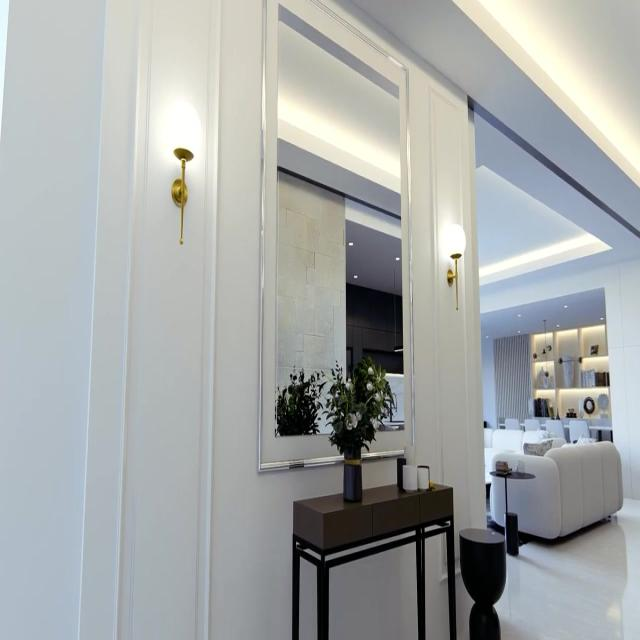obstacle: (291, 481, 456, 638), (484, 425, 624, 543), (530, 322, 611, 425), (489, 468, 535, 554)
